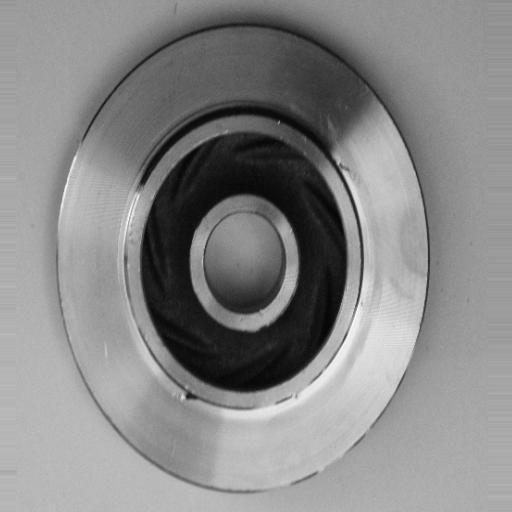crack: (167, 372, 219, 413)
scratch: (118, 178, 152, 275)
unpolished_casting: (55, 21, 432, 496)
